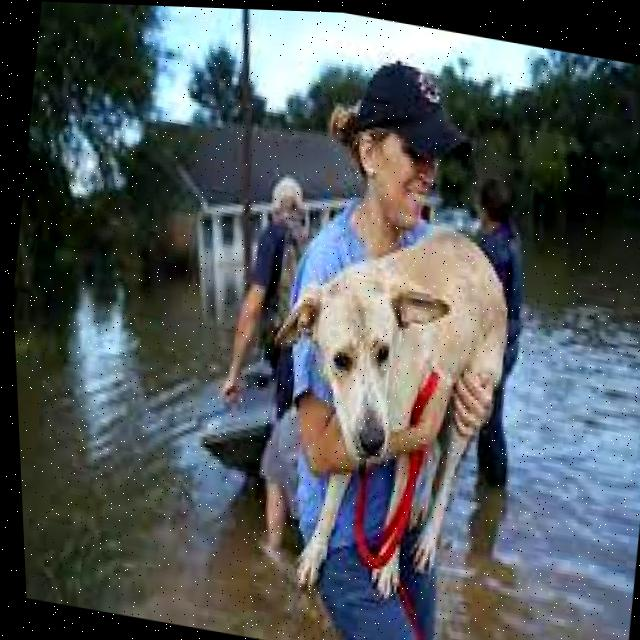civilian: (241, 33, 534, 640), (430, 173, 564, 502), (199, 165, 344, 442)
dog: (270, 202, 531, 600)
